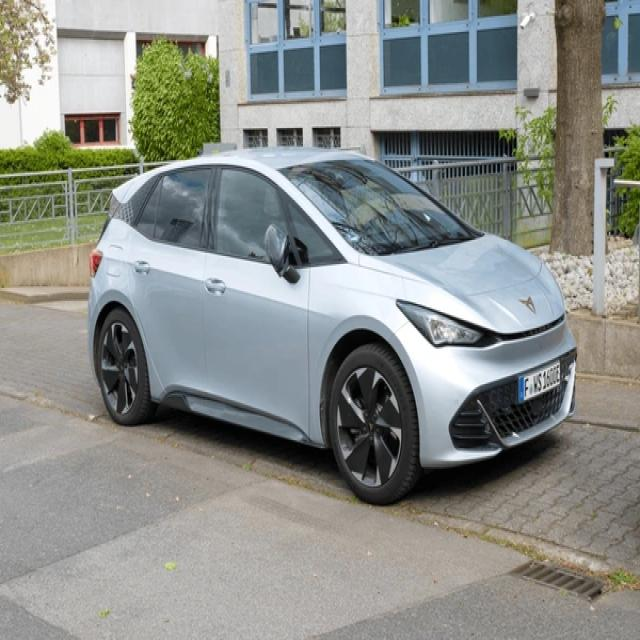cupra: (518, 295, 537, 319)
